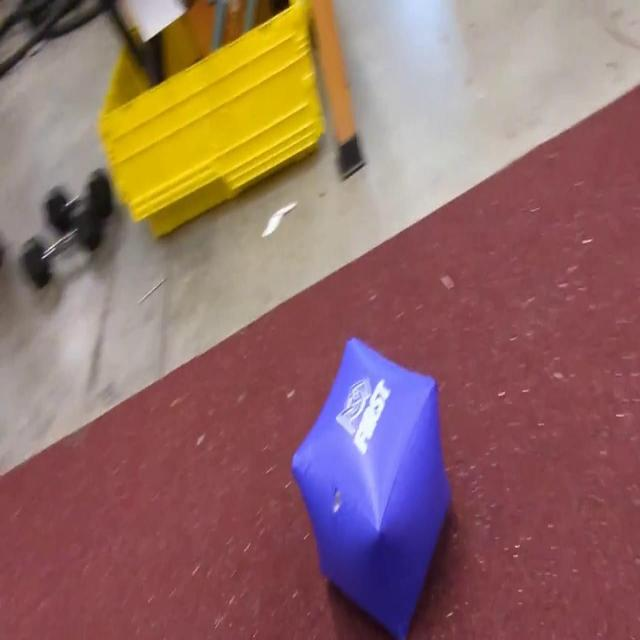frc_cube: (290, 333, 452, 640)
